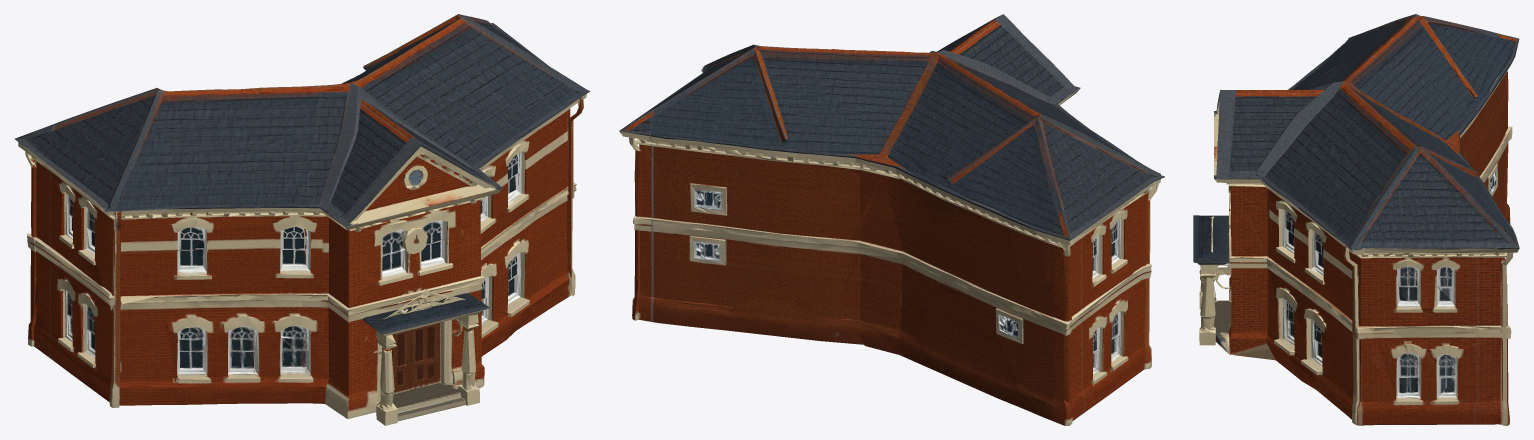
Rendered from station.glb.
3 renders of one model, left to right at view 1: azimuth 30°, elevation 25°; view 2: azimuth 150°, elevation 25°; view 3: azimuth 270°, elevation 25°, orthographic. The views are drawn at different scales.
Bounding box in the file's own units: 1.91 × 1.02 × 1.24.
1 material, 1 textured.
